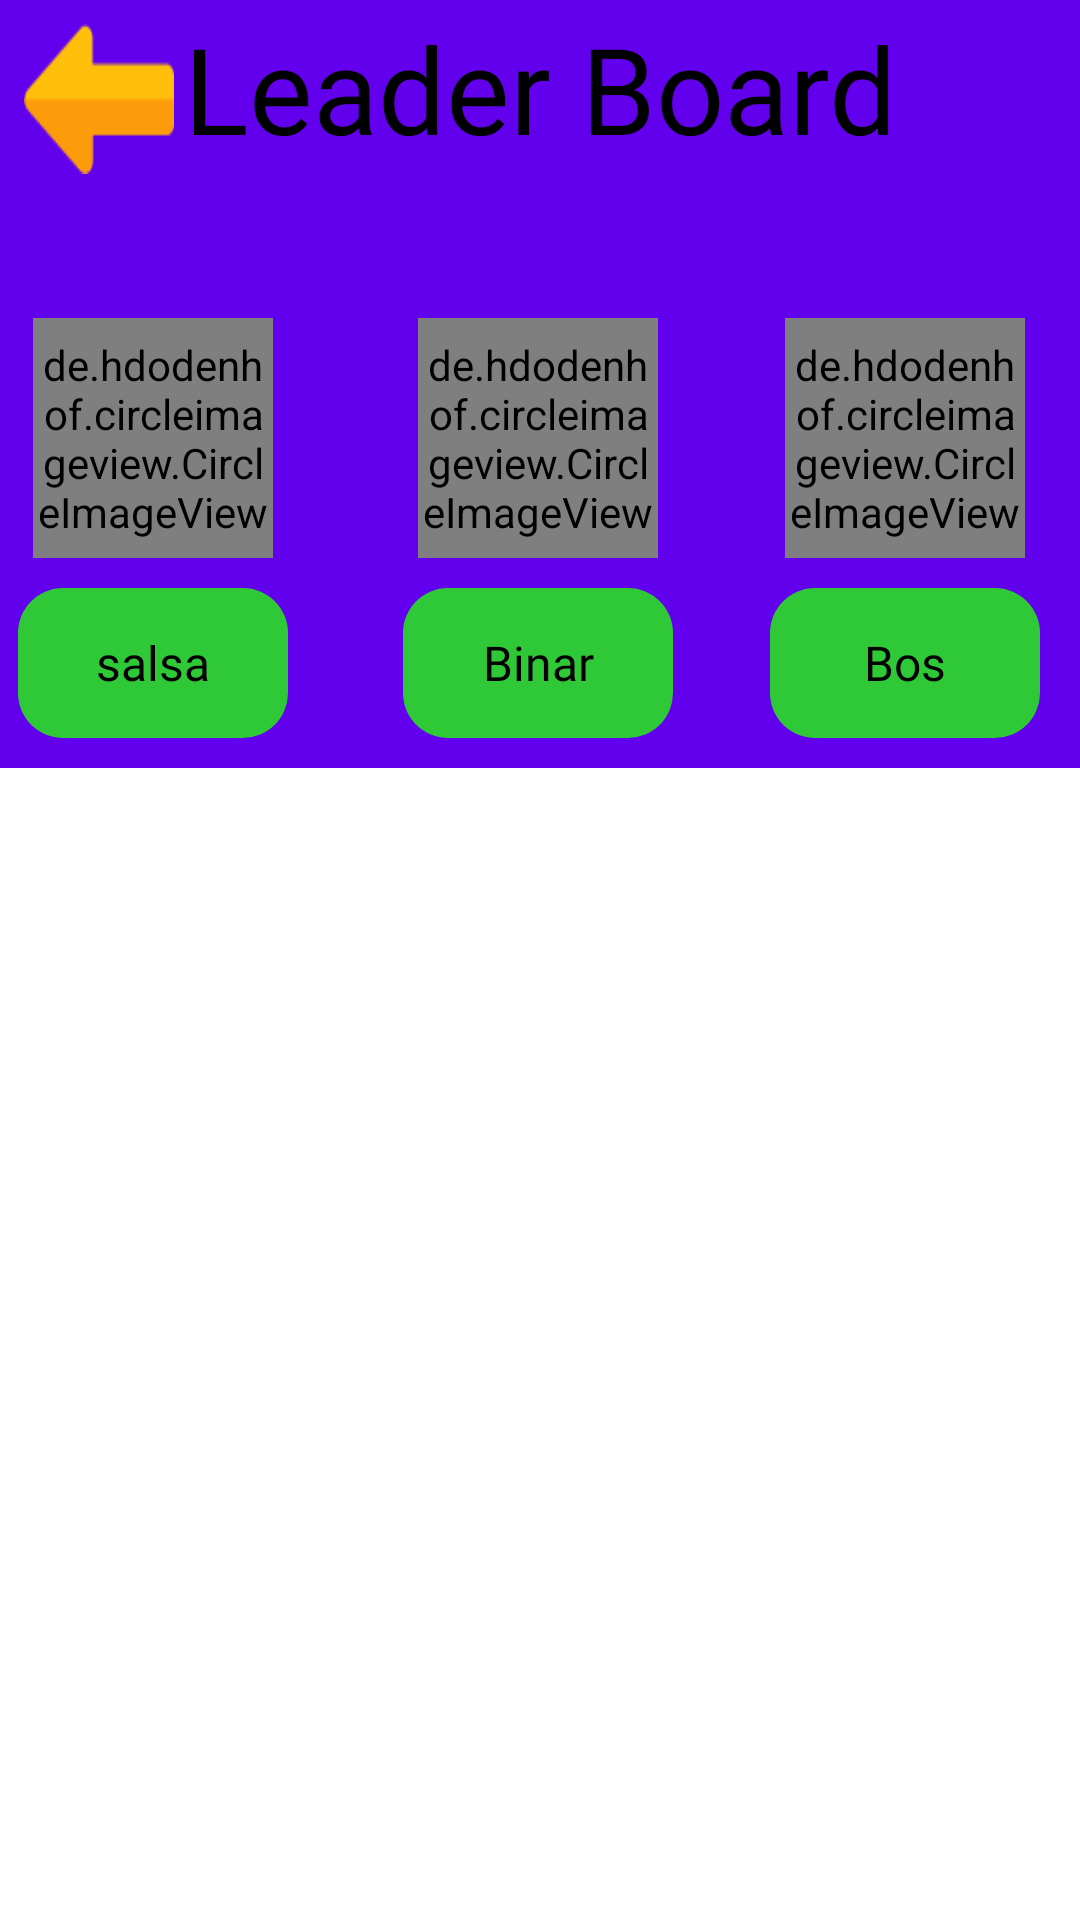

Screen size 1080px×1920px. Icon name, then its center in pixels as [x,y]:
Back: [99,99]
